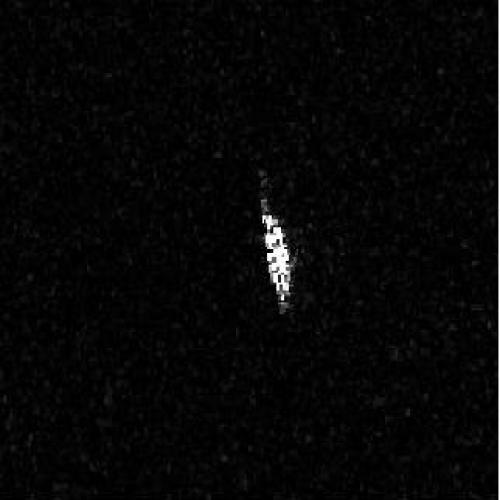ship: (261, 213, 292, 309)
